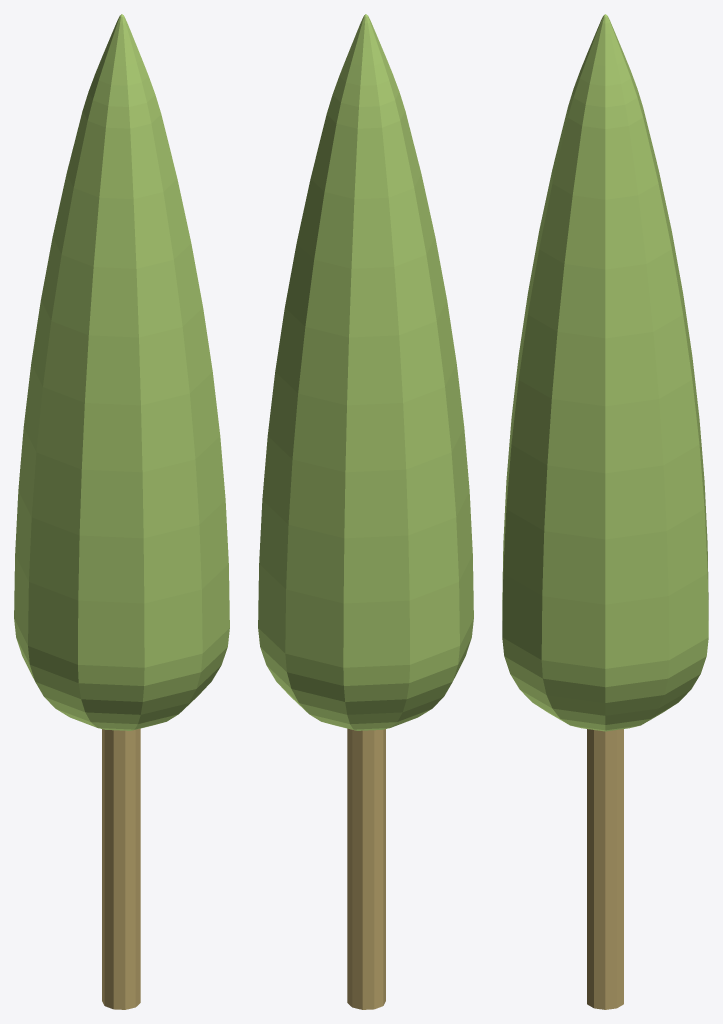
File: props10.fbx
3 views of the same model, side by side, from view 1: azimuth 30°, elevation 25°; view 2: azimuth 150°, elevation 25°; view 3: azimuth 270°, elevation 25° (orthographic).
Parts seen in each view (by area): view 1: Capsule_1; view 2: Capsule_1; view 3: Capsule_1.
Part boxes in pixels (x1,y1,x2,y2): Capsule_1: (14, 14, 229, 1009); Capsule_1: (258, 14, 473, 1009); Capsule_1: (502, 14, 708, 1009).
Size of the model in its own units: 73.95 by 371 by 70.33.
